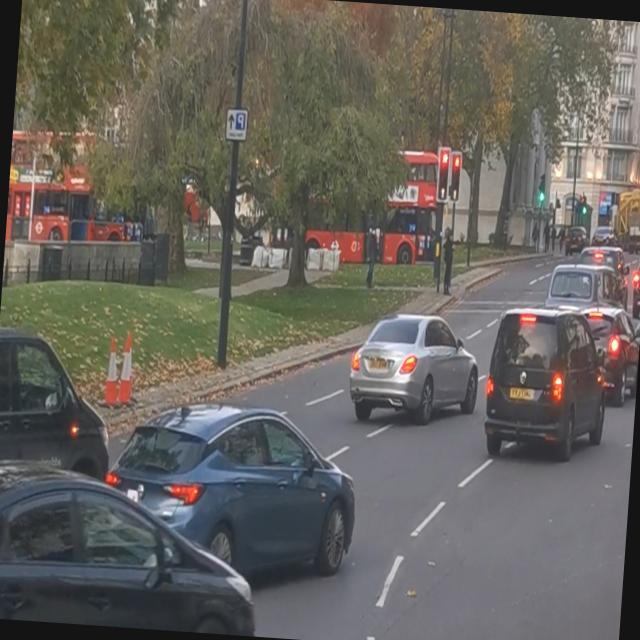Vehicle: (92, 397, 366, 582), (484, 300, 614, 460), (344, 301, 486, 418), (577, 302, 640, 403), (629, 247, 640, 315)
